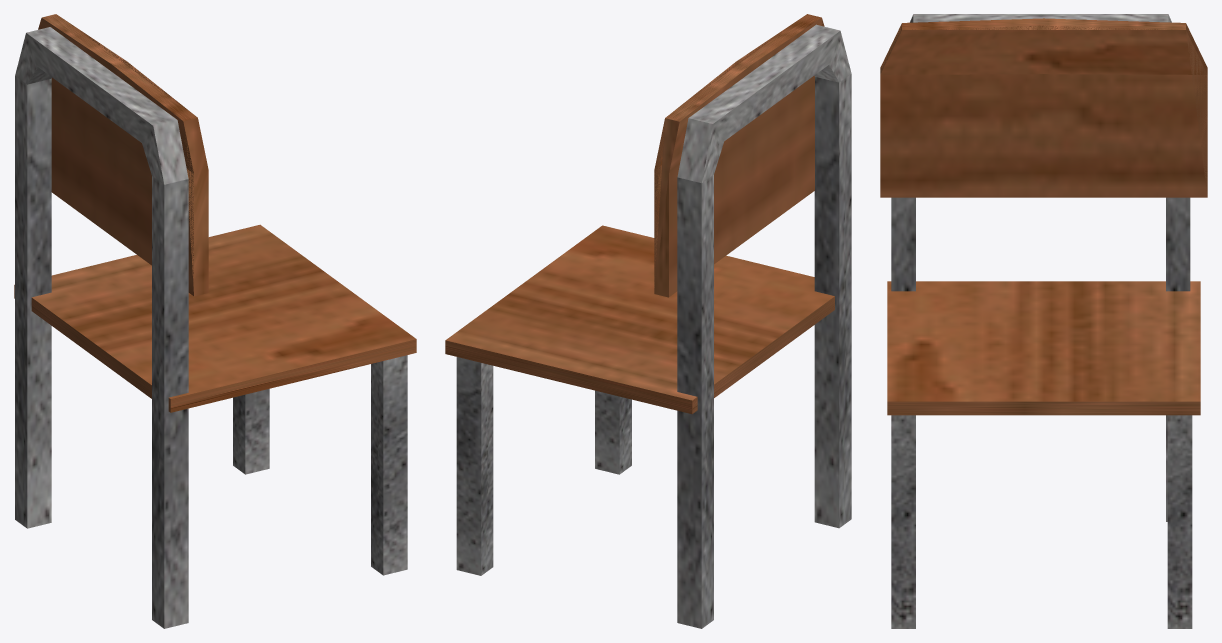
The model's file is chair01.fbx.
3 renders of one model, left to right at view 1: azimuth 30°, elevation 25°; view 2: azimuth 150°, elevation 25°; view 3: azimuth 270°, elevation 25°, orthographic.
Parts seen in each view (by area): view 1: Cube.004; view 2: Cube.004; view 3: Cube.004.
Boxes of the visible parts, x1,y1,x2,y2 form: Cube.004: (14,14,416,628); Cube.004: (445,14,851,628); Cube.004: (880,14,1207,628).
Size of the model in its own units: 193 by 371 by 218.
6 materials, 6 textured.
